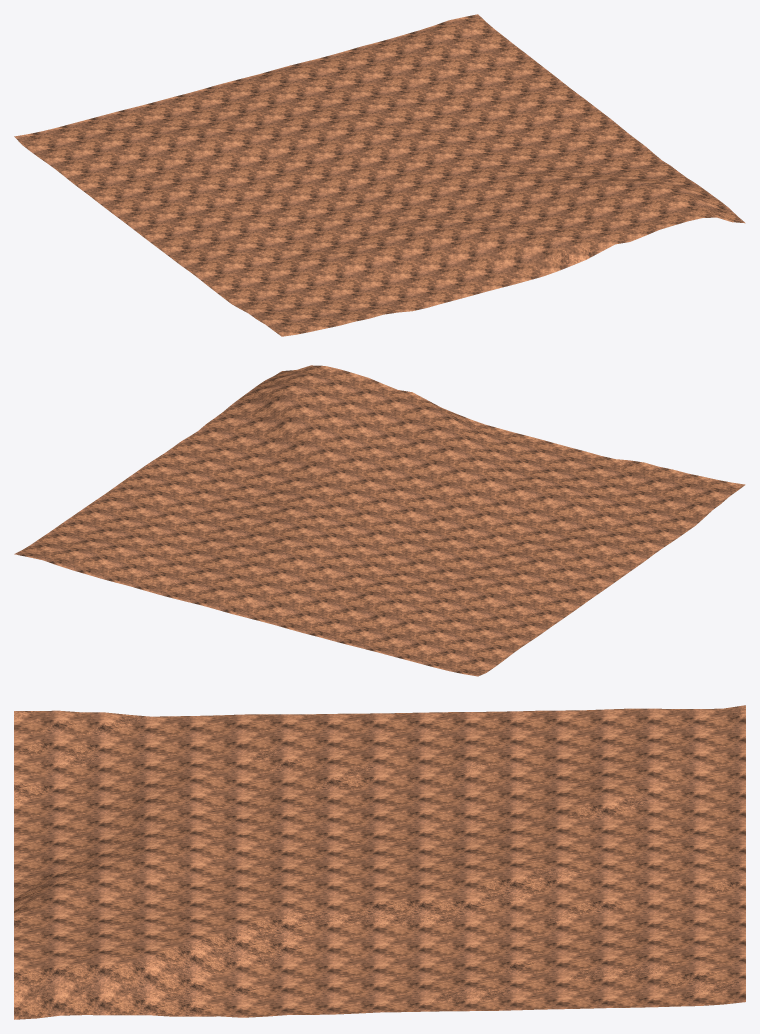
The model's file is terrain_05_08.dae.
The picture shows the model from 3 angles, top to bottom: view 1: azimuth 30°, elevation 25°; view 2: azimuth 150°, elevation 25°; view 3: azimuth 270°, elevation 25°; orthographic projection. The views are drawn at different scales.
Parts seen in each view (by area): view 1: terrain_05_08-node; view 2: terrain_05_08-node; view 3: terrain_05_08-node.
Boxes of the visible parts, x1,y1,x2,y2 form: terrain_05_08-node: [14, 14, 745, 336]; terrain_05_08-node: [14, 365, 745, 676]; terrain_05_08-node: [14, 705, 745, 1019].
Bounding box in the file's own units: 128 × 128 × 6.88.
Materials: 1 (1 with a texture image).
